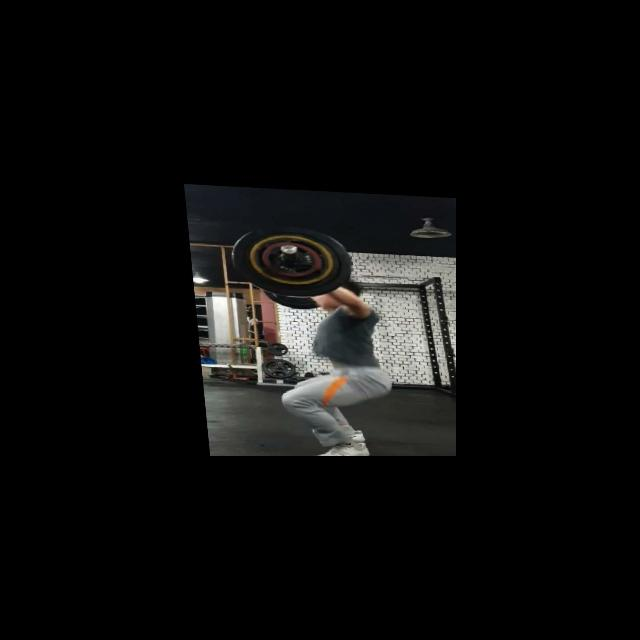barbell: (225, 220, 354, 301)
